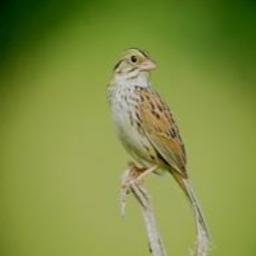Sparrow: (106, 42, 194, 218)
